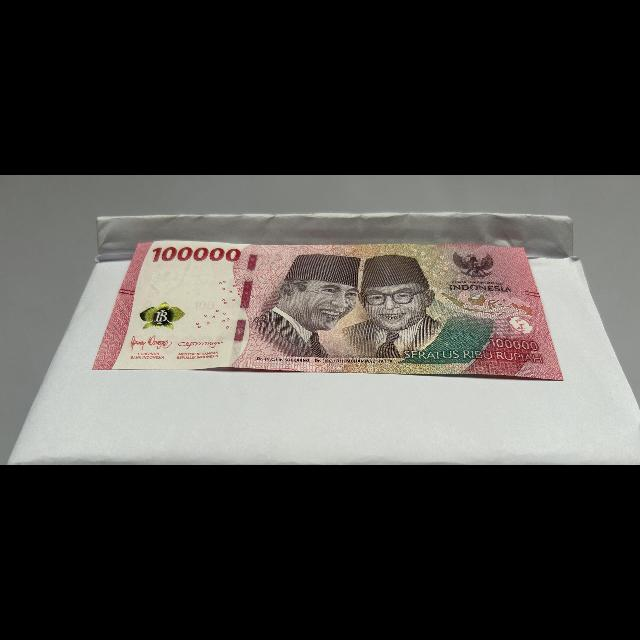Asli-100k: (88, 239, 569, 384)
Tinta-Asli-100k: (136, 300, 191, 332)
